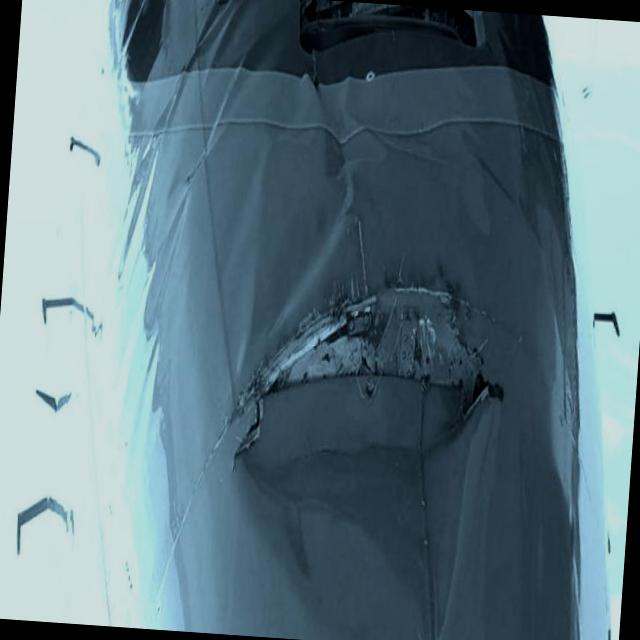crack: (213, 222, 515, 510)
